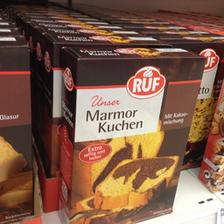Kuchen: (58, 46, 206, 222)
